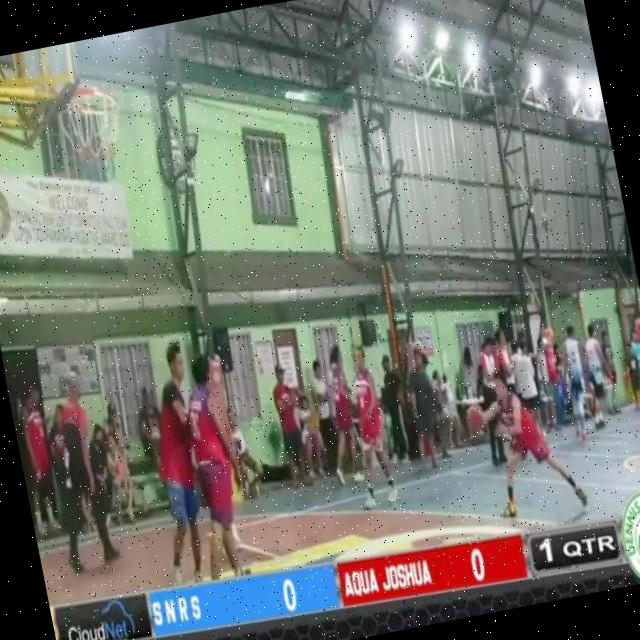ball: (459, 396, 488, 437)
hoop: (59, 77, 128, 121)
